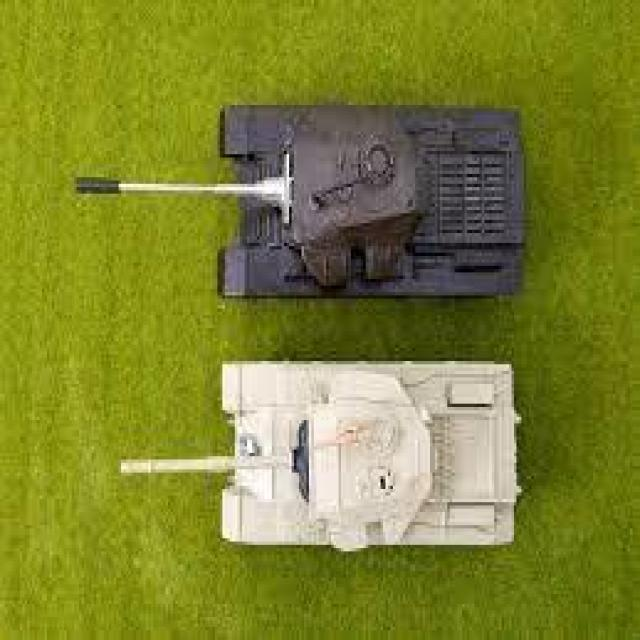Tanks: (52, 85, 544, 335), (101, 344, 526, 564)
